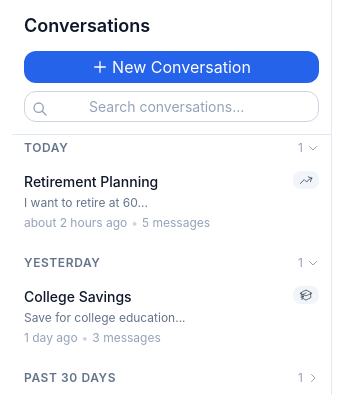
Test: ThreadSidebar › shows empty state when no threads match search
This screenshot has width=349, height=412.
Type "nonexistent" into the field with placeholder "Search conversations..." at (172,106), box top-left (24, 91), bottom-right (319, 122)
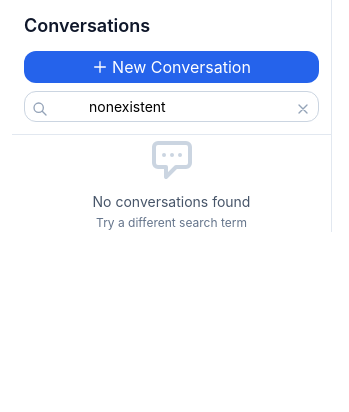
Expected: the text "No conversations found" is shown, top-left (93, 191), bottom-right (250, 212)
